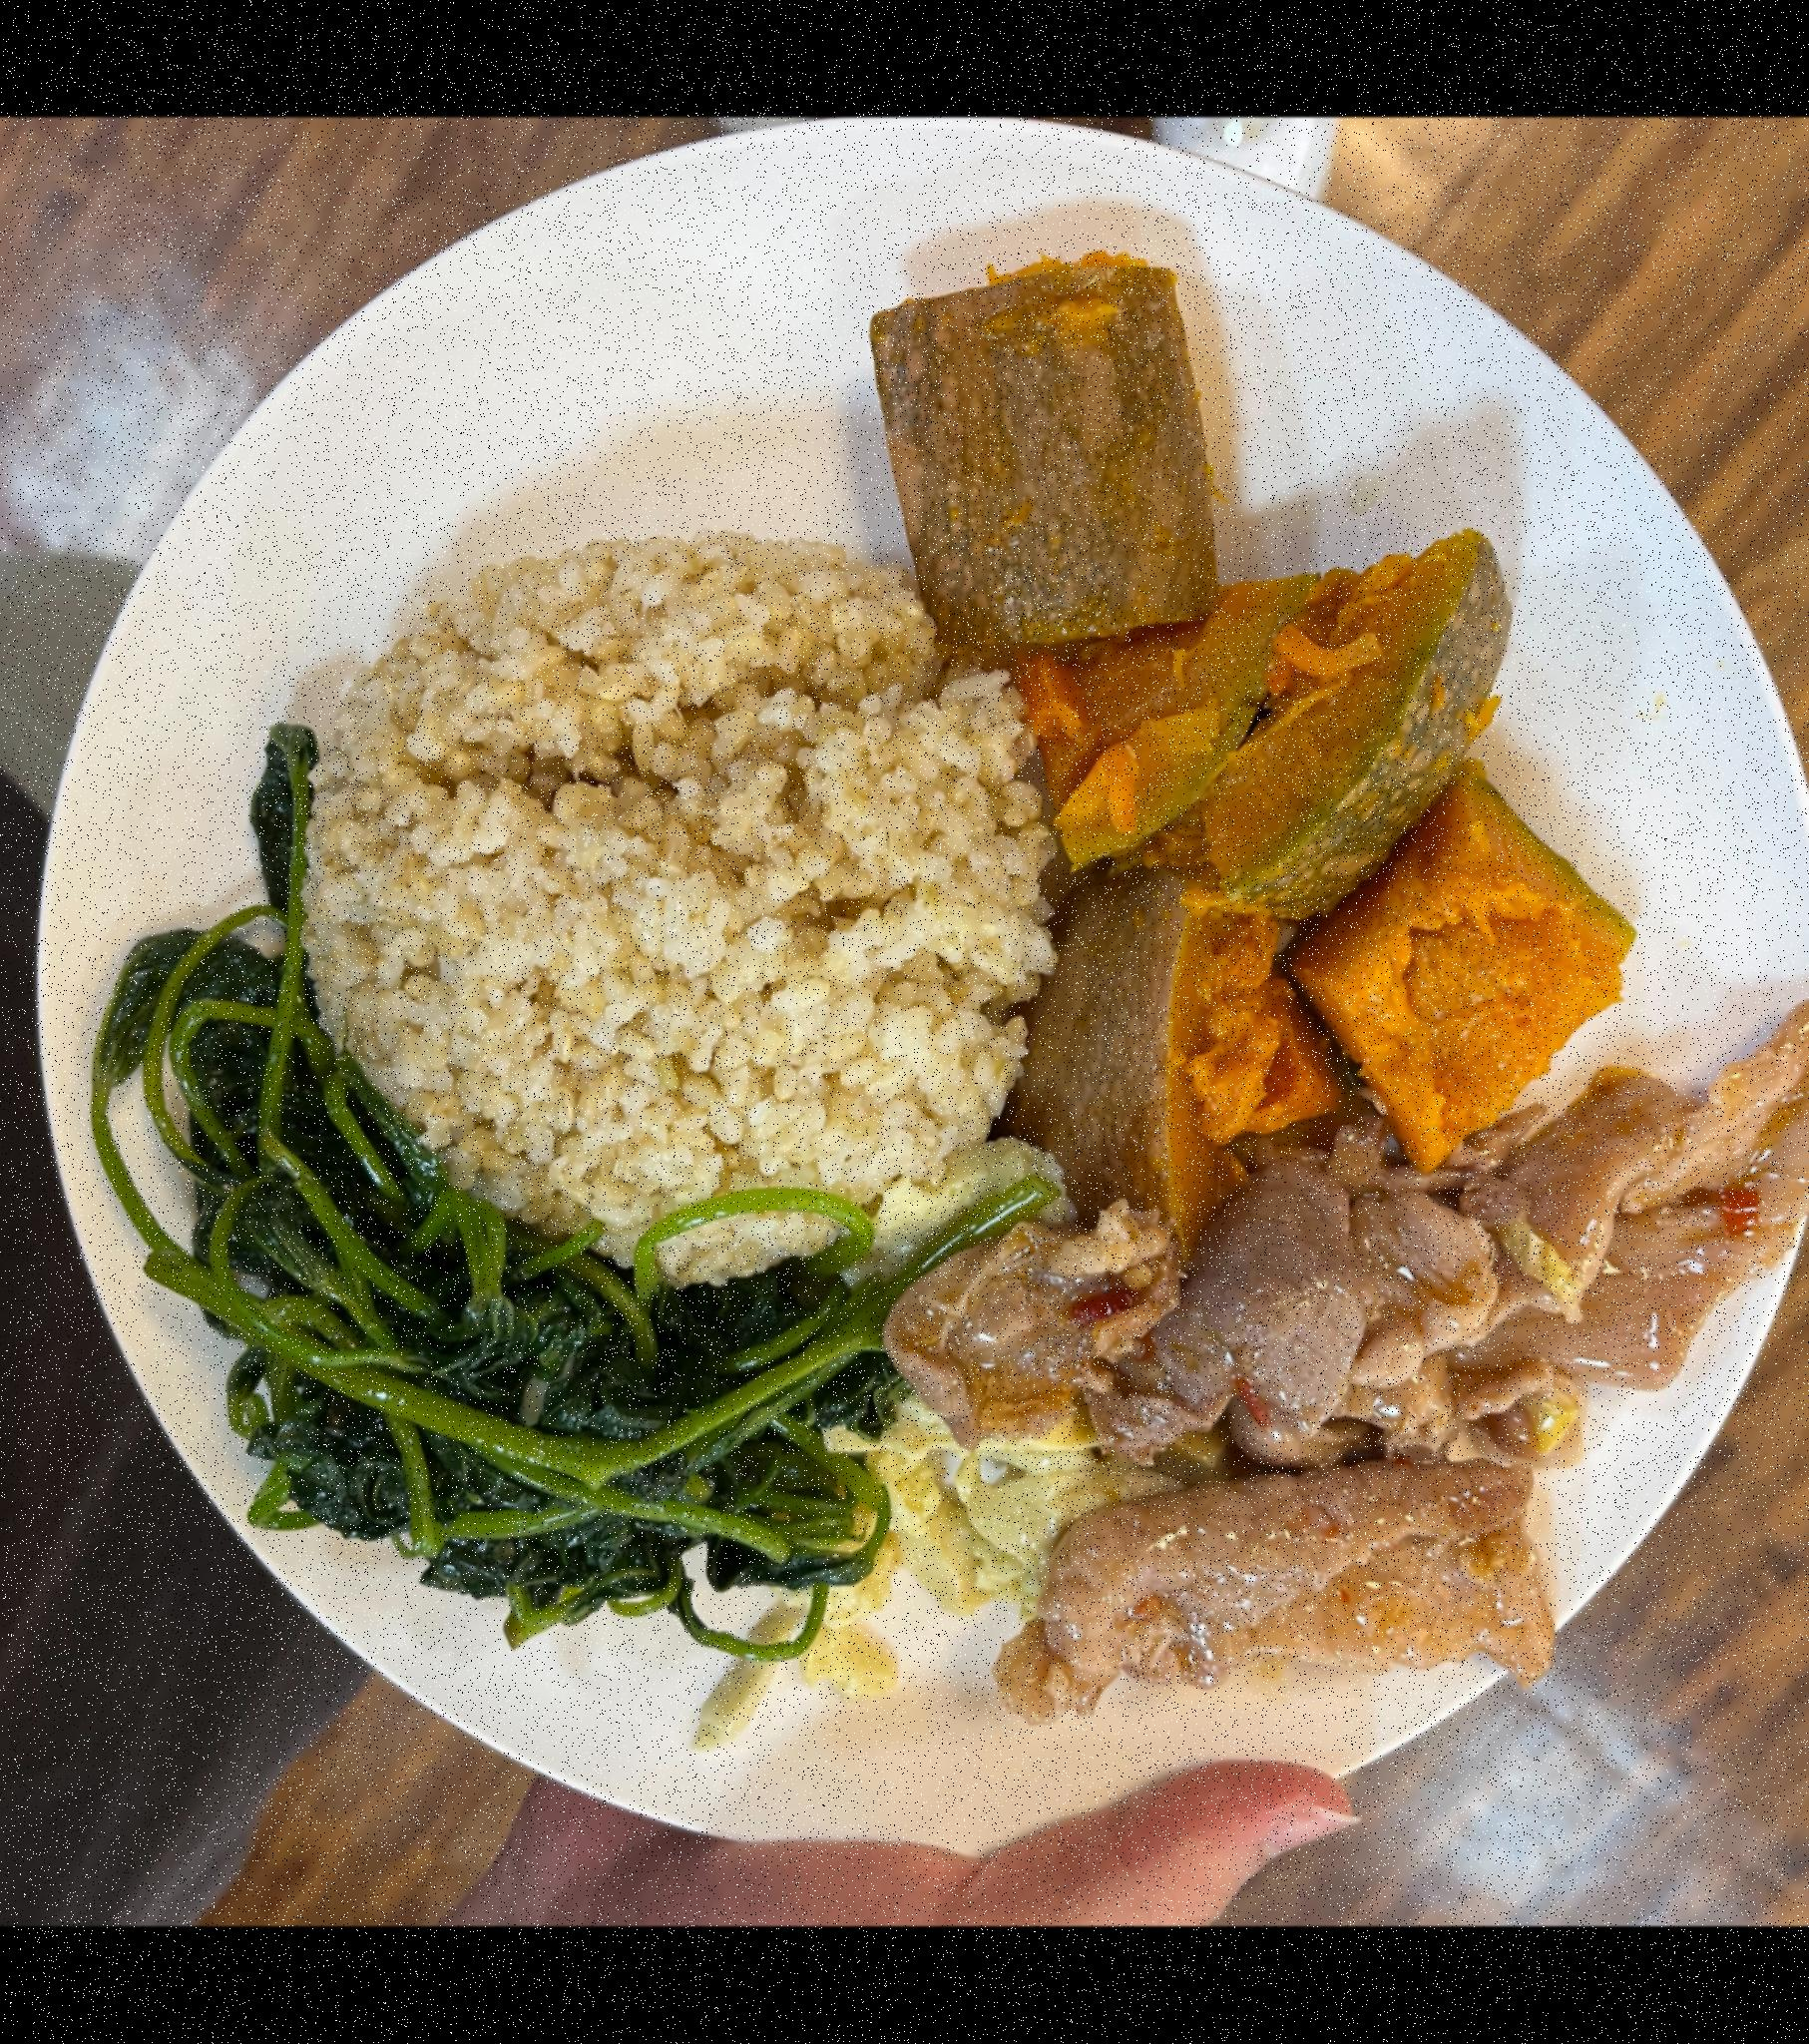brown rice: (265, 517, 1063, 1298)
plate: (23, 124, 1809, 1882)
side dish: (891, 250, 1647, 1226), (84, 912, 906, 1686)
thai pork: (969, 992, 1809, 1756)
